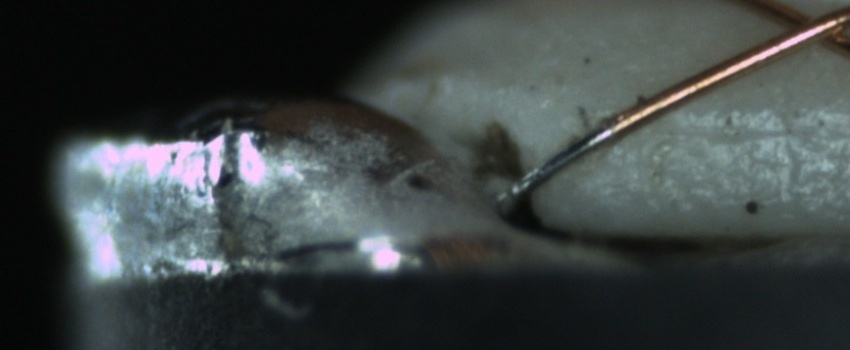CL: (759, 0, 850, 57)
DL: (646, 97, 848, 160)
TS: (509, 120, 618, 197)
TTCW: (509, 99, 658, 199)
